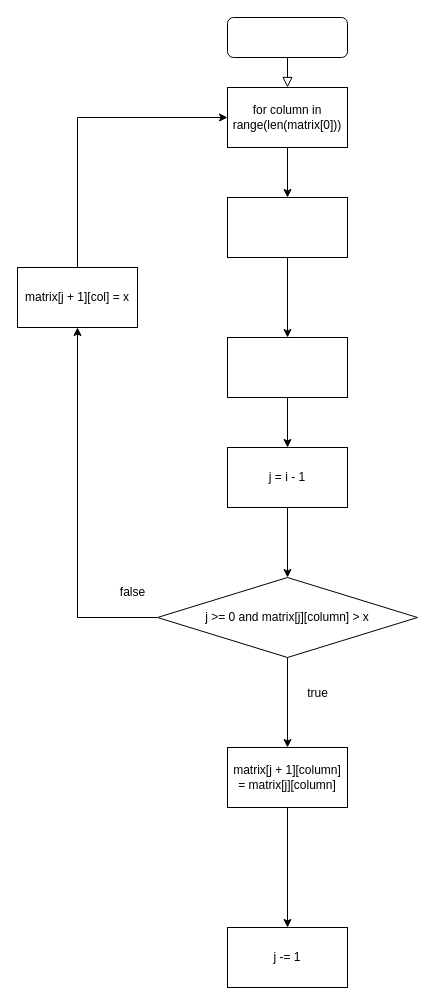
The diagram is 435 pixels wide and 1005 high, and some of its shapes have lost their labels. The shapes that lost their labels are listed below. From the top down, each one's centre as x and y in pixels, then its label:
the point at 287,37: Start
the point at 287,227: for i in range(1, len(matrix)) .
the point at 287,367: x = matrix[i][column]
